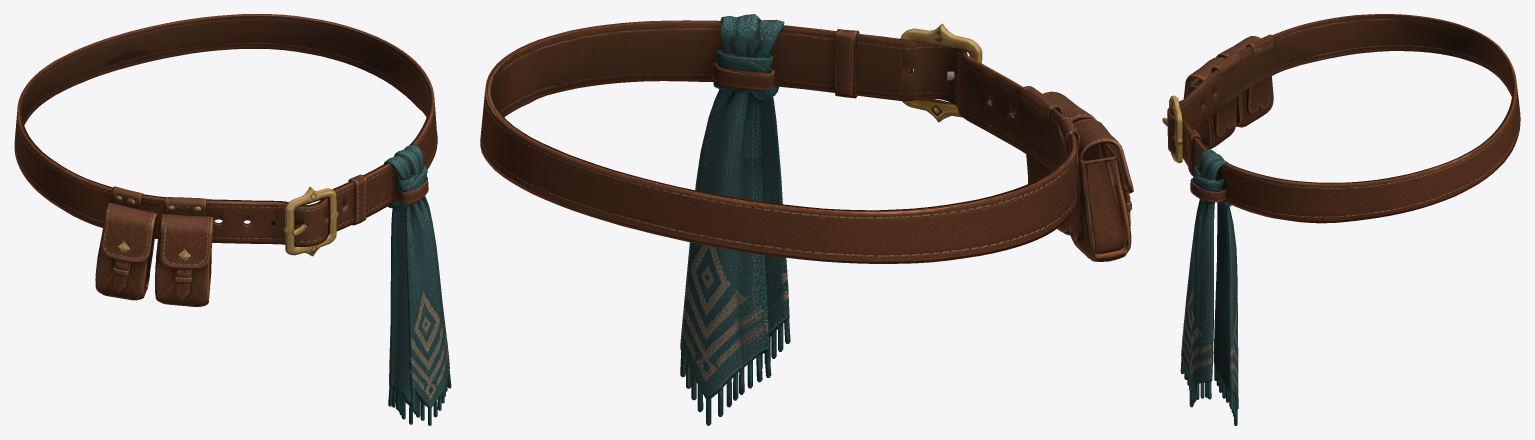
File: warden-belt-tripo.glb
The picture shows the model from 3 angles, left to right: view 1: azimuth 30°, elevation 25°; view 2: azimuth 150°, elevation 25°; view 3: azimuth 270°, elevation 25°; orthographic projection. The views are drawn at different scales.
Visible parts, largest first — view 1: tripo_node_f428629f-abf6-4c9f-9de8-ee3030b5a531; view 2: tripo_node_f428629f-abf6-4c9f-9de8-ee3030b5a531; view 3: tripo_node_f428629f-abf6-4c9f-9de8-ee3030b5a531.
Boxes of the visible parts, x1,y1,x2,y2 form: tripo_node_f428629f-abf6-4c9f-9de8-ee3030b5a531: (14,14,451,425); tripo_node_f428629f-abf6-4c9f-9de8-ee3030b5a531: (480,14,1133,425); tripo_node_f428629f-abf6-4c9f-9de8-ee3030b5a531: (1162,14,1520,425).
Size of the model in its own units: 0.9995 by 0.7866 by 0.8931.
Materials: 1 (1 with a texture image).
